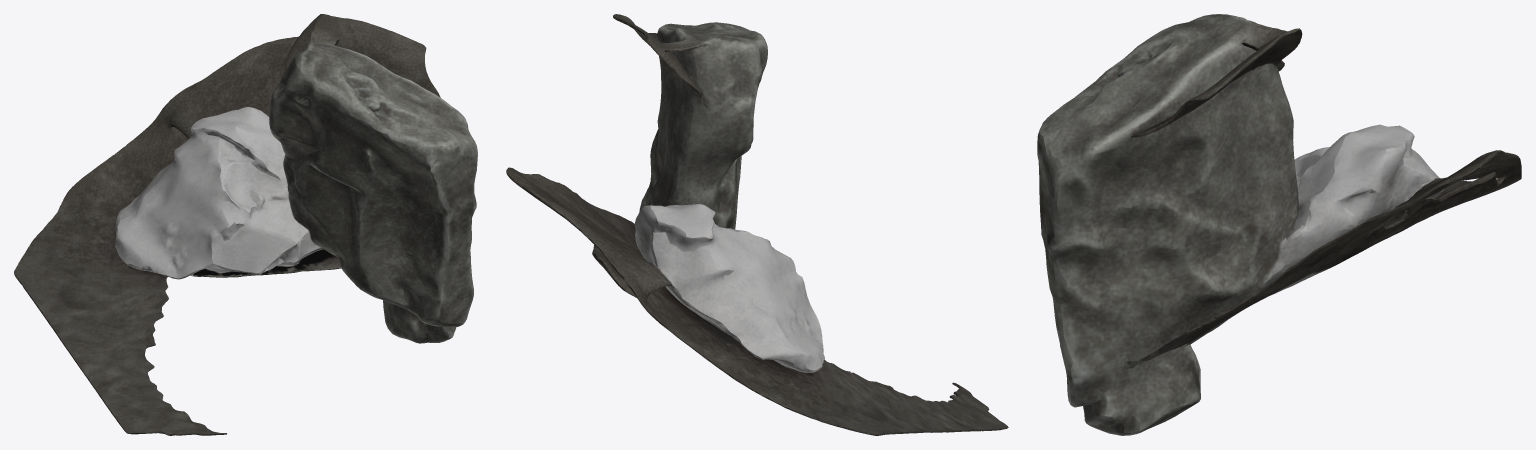
3 views of the same model, side by side, from view 1: azimuth 30°, elevation 25°; view 2: azimuth 150°, elevation 25°; view 3: azimuth 270°, elevation 25° (orthographic). The views are drawn at different scales.
Parts seen in each view (by area): view 1: world; view 2: world; view 3: world.
Part boxes in pixels (left/top/right/bottom): world: left=14, top=14, right=477, bottom=435; world: left=506, top=14, right=1008, bottom=435; world: left=1037, top=14, right=1521, bottom=435.
Size of the model in its own units: 1.59 by 1.5 by 1.59.
1 material, 1 textured.
